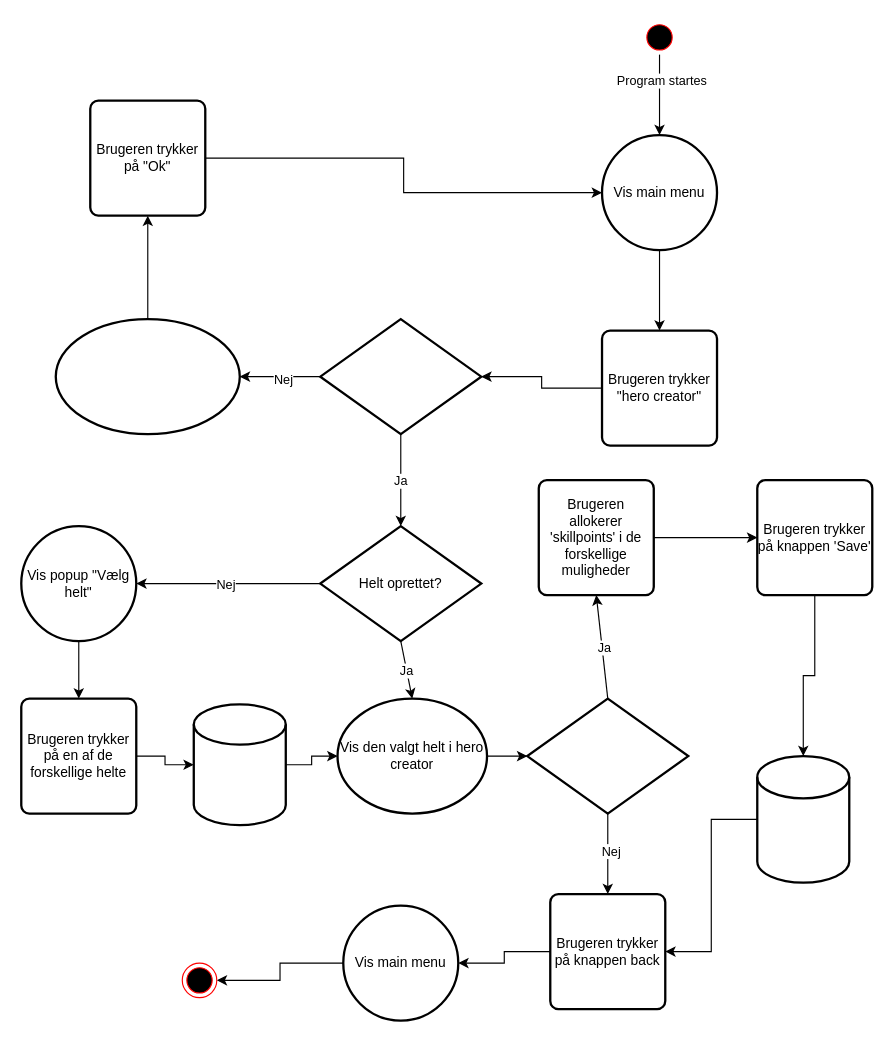
This 892x1042 diagram has some shape labels left out. The box of each missing label's shape, as (x1, y1, x2, y2) in pixels:
'skillpoints' opdateret i databasen: (756, 754, 850, 883)
Helt oprettet i database: (192, 703, 286, 826)
Helten har point at allokere?: (526, 697, 689, 814)
Kun en helt på skyboardet?: (319, 317, 482, 435)
Vis popup "Placer kun en helt på sky boardet": (54, 317, 240, 435)
